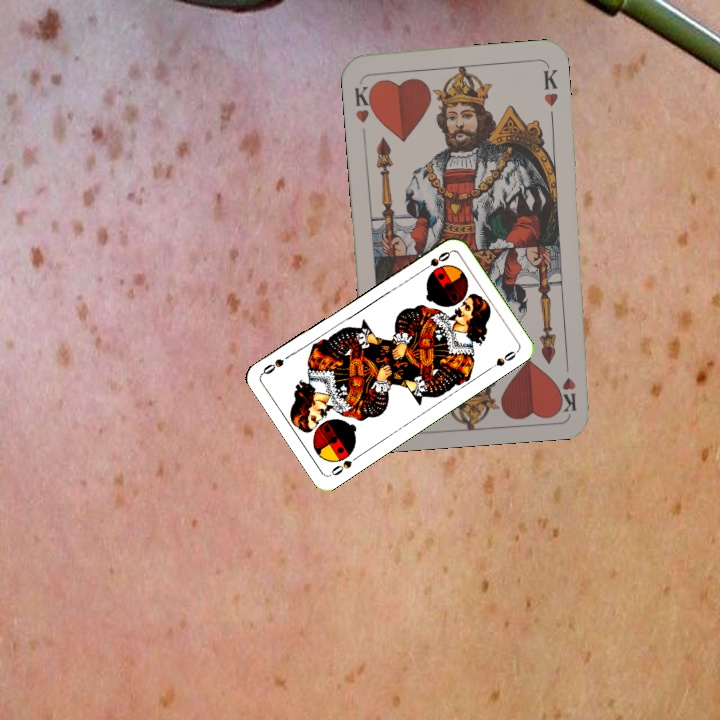HK: (351, 78, 378, 125), (558, 353, 579, 413)
SO: (417, 247, 453, 274), (326, 451, 362, 478)
